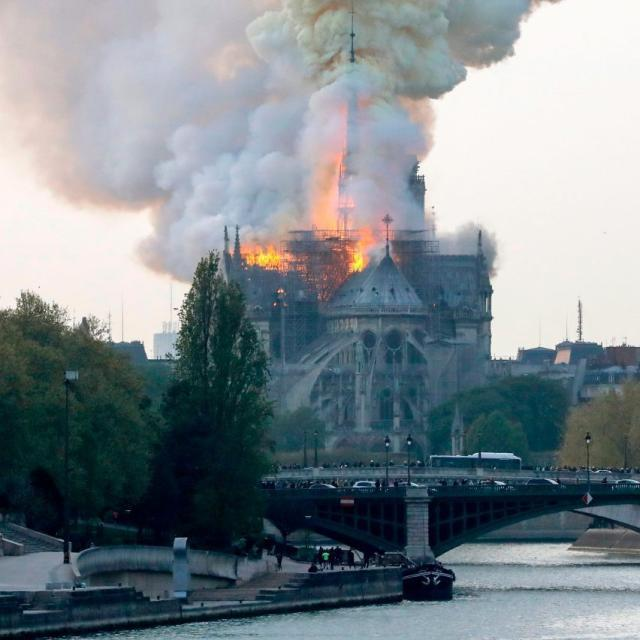Fire: (233, 241, 302, 276), (338, 234, 372, 272)
Smoke: (0, 0, 571, 283)
